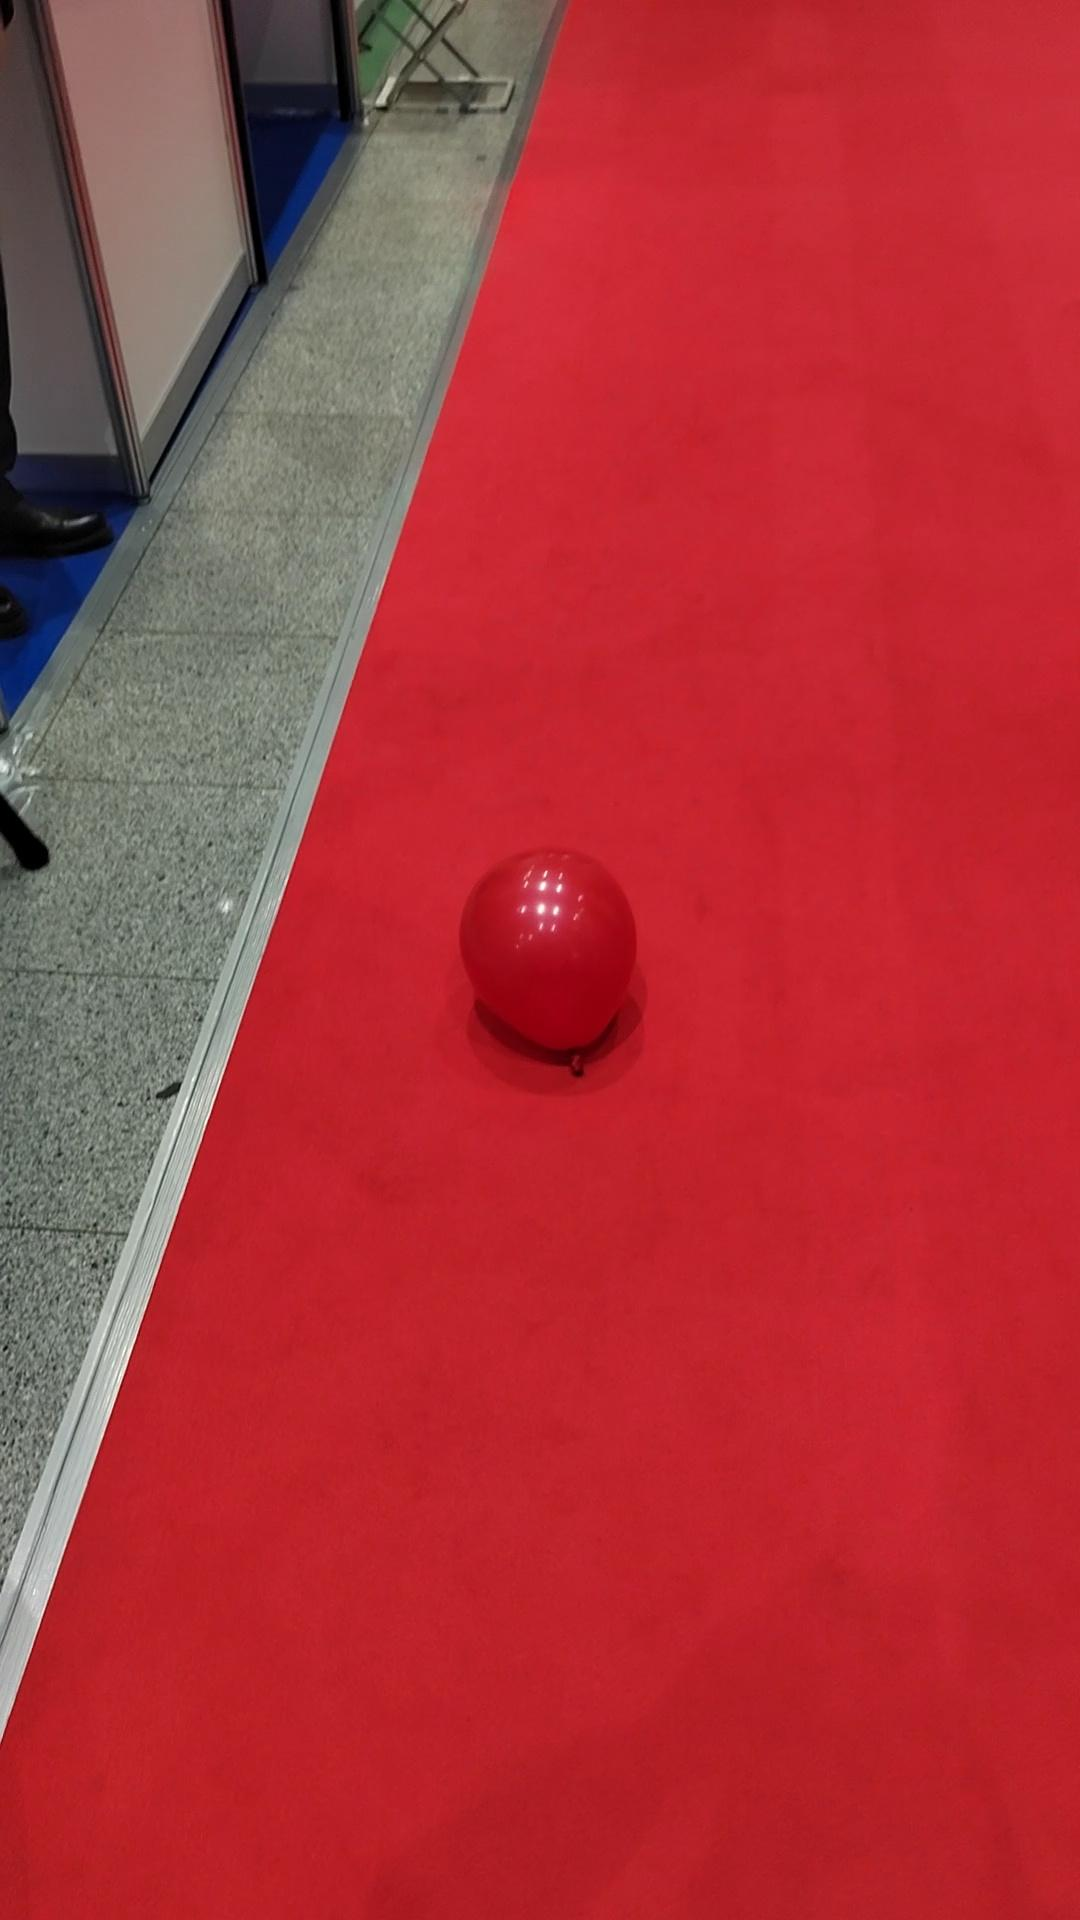red: (456, 837, 644, 1054)
